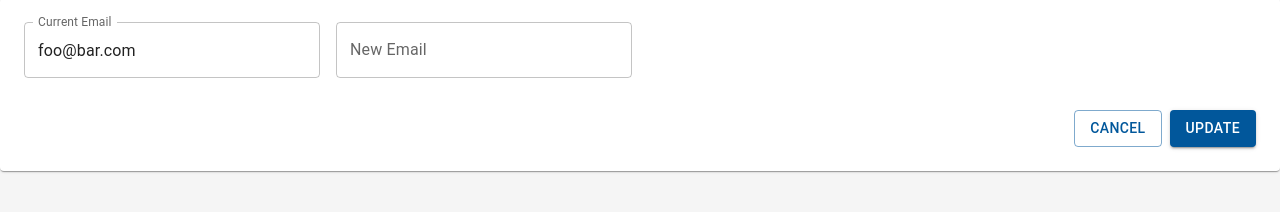
AccountEmail :: rejects form with invalid password fields
Replace the text in the field labelled "Current Email" with "foo": (172, 50) [24, 22, 320, 78]
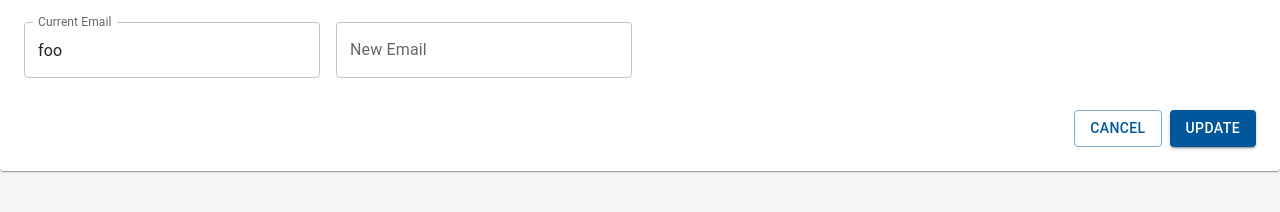
In the field labelled "New Email": (484, 50) [336, 22, 632, 78], type "baz"
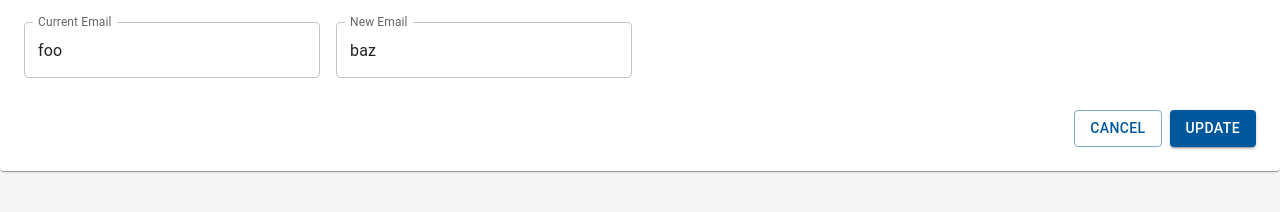
Click the button "Update": (1213, 128) [1170, 110, 1256, 146]
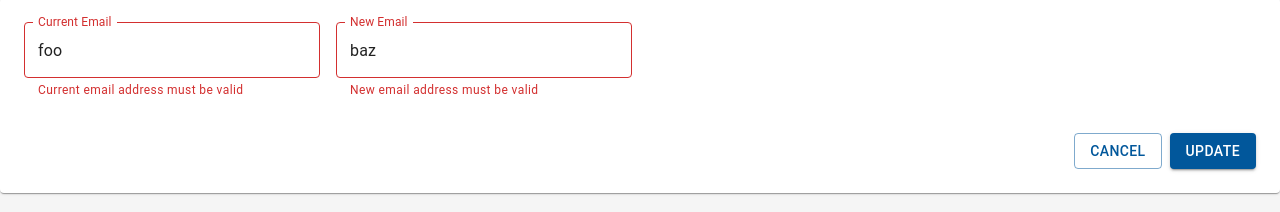
Expected: the text "Current email address must be valid" is shown, [38, 83, 244, 97]
Expected: the text "New email address must be valid" is shown, [350, 83, 538, 97]
